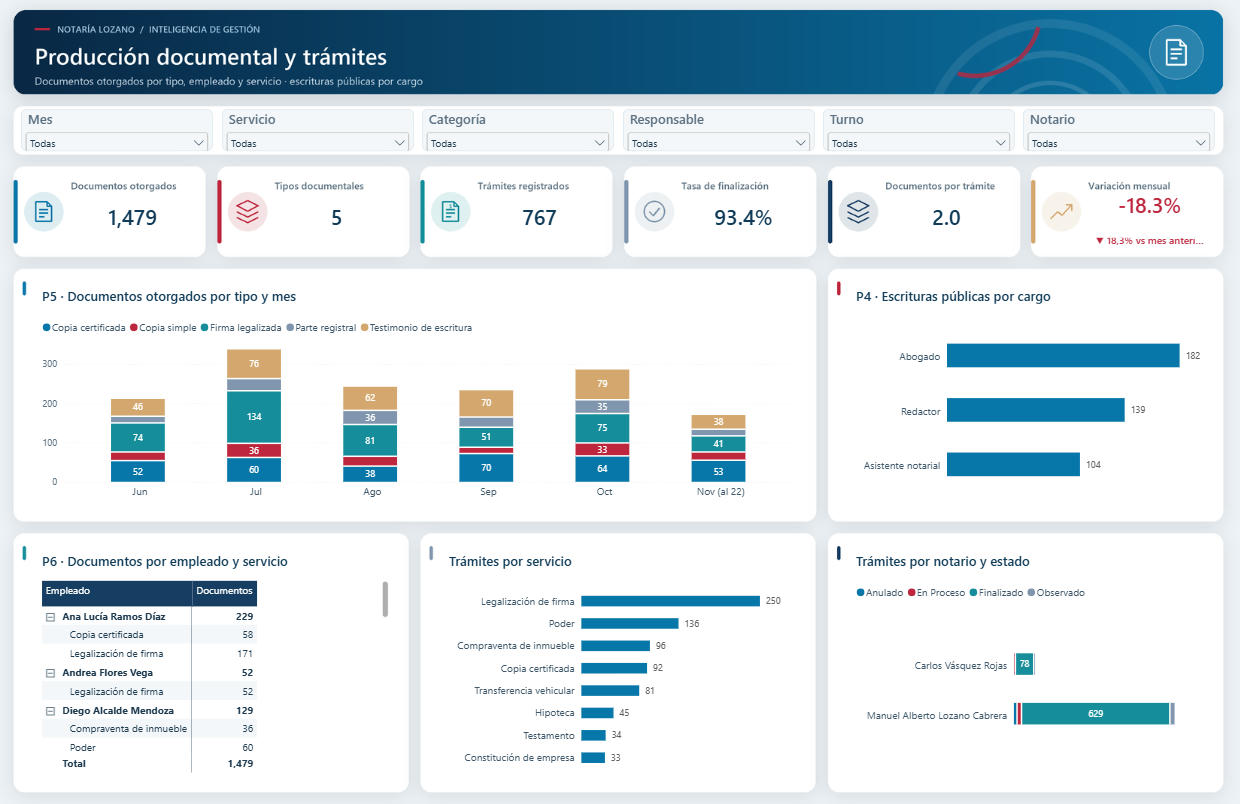

The dashboard page shown, as its layout file describes it:
{"tool":"powerbi","page":{"name":"Producción documental y trámites","canvas":[1920,1280],"ordinal":2},"visuals":[{"type":"textbox","box":[302,67,1400,52],"z":0},{"type":"textbox","box":[304,123,1450,40],"z":1},{"type":"slicer","fields":{"Values":["DIM_TIEMPO.Anio"]},"box":[296,216,250.3,61],"z":3},{"type":"slicer","fields":{"Values":["DIM_TIEMPO.Nombre_Mes"]},"box":[560.3,216,250.3,61],"z":4},{"type":"slicer","fields":{"Values":["DIM_SERVICIO.Nombre_Tramite"]},"box":[824.7,216,250.3,61],"z":5},{"type":"slicer","fields":{"Values":["DIM_TIPO_DOCUMENTO.Nombre_TipoDocumento"]},"box":[1089,216,250.3,61],"z":6},{"type":"slicer","fields":{"Values":["DIM_NOTARIO.Nombre_Completo"]},"box":[1353.3,216,250.3,61],"z":7},{"type":"slicer","fields":{"Values":["DIM_ESTADO_PAGO.Estado"]},"box":[1617.7,216,250.3,61],"z":8},{"type":"card","fields":{"Values":["FACT_DOCUMENTOS_OTORGADOS.Documentos otorgados"]},"box":[280,310,308,122],"z":9},{"type":"card","fields":{"Values":["FACT_TRAMITE_GENERAL.Tramites registrados"]},"box":[604,310,308,122],"z":10},{"type":"card","fields":{"Values":["FACT_DOCUMENTOS_OTORGADOS.Tipos documentales atendidos"]},"box":[928,310,308,122],"z":11},{"type":"card","fields":{"Values":["FACT_TRAMITE_GENERAL.Cantidad de tramites"]},"box":[1252,310,308,122],"z":12},{"type":"card","fields":{"Values":["FACT_DOCUMENTOS_OTORGADOS.Variacion mensual documentos"]},"box":[1576,310,308,122],"z":13},{"type":"textbox","box":[298,1214,1578,36],"z":14},{"type":"lineChart","title":"Evolución mensual de documentos otorgados","fields":{"Category":["DIM_TIEMPO.Nombre_Mes"],"Y":["FACT_DOCUMENTOS_OTORGADOS.Documentos otorgados"]},"box":[306,494,492,214],"z":15},{"type":"clusteredBarChart","title":"Documentos por tipo documental","fields":{"Category":["DIM_TIPO_DOCUMENTO.Nombre_TipoDocumento"],"Y":["FACT_DOCUMENTOS_OTORGADOS.Documentos otorgados"]},"box":[846,494,492,214],"z":16},{"type":"clusteredColumnChart","title":"Trámites únicos por mes","fields":{"Category":["DIM_TIEMPO.Nombre_Mes"],"Y":["FACT_TRAMITE_GENERAL.Tramites registrados"]},"box":[1386,494,492,214],"z":17},{"type":"clusteredBarChart","title":"Trámites únicos por servicio","fields":{"Category":["DIM_SERVICIO.Nombre_Tramite"],"Y":["FACT_TRAMITE_GENERAL.Tramites registrados"]},"box":[306,744,492,214],"z":18},{"type":"clusteredBarChart","title":"Trámites únicos por notario","fields":{"Category":["DIM_NOTARIO.Nombre_Completo"],"Y":["FACT_TRAMITE_GENERAL.Tramites registrados"]},"box":[846,744,492,214],"z":19},{"type":"donutChart","title":"Trámites por estado de pago","fields":{"Category":["DIM_ESTADO_PAGO.Estado"],"Y":["FACT_TRAMITE_GENERAL.Tramites registrados"]},"box":[1386,744,492,214],"z":20},{"type":"tableEx","title":"Detalle documental agrupado por fecha, tipo, servicio y responsable","fields":{"Values":["DIM_TIEMPO.Fecha_Exacta","DIM_TIPO_DOCUMENTO.Nombre_TipoDocumento","DIM_SERVICIO.Nombre_Tramite","DIM_PERSONAL.Nombre_Completo","FACT_DOCUMENTOS_OTORGADOS.Documentos otorgados"]},"box":[295.5,978.2,1572.3,254.4],"z":21},{"type":"actionButton","box":[24,685,196,44],"z":23},{"type":"actionButton","box":[24,260,196,76],"z":40},{"type":"actionButton","box":[24,352,196,76],"z":41},{"type":"actionButton","box":[24,444,196,76],"z":42}]}

Visuals, with their boxes in screenshot pixels (x1, y1, x2, y2), scaled from the page's 1920x1280 canvas onto the 1240x804 screenshot:
textbox: box(195, 42, 1099, 75)
textbox: box(196, 77, 1133, 102)
slicer - DIM_TIEMPO.Anio: box(191, 136, 353, 174)
slicer - DIM_TIEMPO.Nombre_Mes: box(362, 136, 524, 174)
slicer - DIM_SERVICIO.Nombre_Tramite: box(533, 136, 694, 174)
slicer - DIM_TIPO_DOCUMENTO.Nombre_TipoDocumento: box(703, 136, 865, 174)
slicer - DIM_NOTARIO.Nombre_Completo: box(874, 136, 1036, 174)
slicer - DIM_ESTADO_PAGO.Estado: box(1045, 136, 1206, 174)
card - FACT_DOCUMENTOS_OTORGADOS.Documentos otorgados: box(181, 195, 380, 271)
card - FACT_TRAMITE_GENERAL.Tramites registrados: box(390, 195, 589, 271)
card - FACT_DOCUMENTOS_OTORGADOS.Tipos documentales atendidos: box(599, 195, 798, 271)
card - FACT_TRAMITE_GENERAL.Cantidad de tramites: box(809, 195, 1008, 271)
card - FACT_DOCUMENTOS_OTORGADOS.Variacion mensual documentos: box(1018, 195, 1217, 271)
textbox: box(192, 763, 1212, 785)
"Evolución mensual de documentos otorgados" lineChart: box(198, 310, 515, 445)
"Documentos por tipo documental" clusteredBarChart: box(546, 310, 864, 445)
"Trámites únicos por mes" clusteredColumnChart: box(895, 310, 1213, 445)
"Trámites únicos por servicio" clusteredBarChart: box(198, 467, 515, 602)
"Trámites únicos por notario" clusteredBarChart: box(546, 467, 864, 602)
"Trámites por estado de pago" donutChart: box(895, 467, 1213, 602)
"Detalle documental agrupado por fecha, tipo, servicio y responsable" tableEx: box(191, 614, 1206, 774)
actionButton: box(16, 430, 142, 458)
actionButton: box(16, 163, 142, 211)
actionButton: box(16, 221, 142, 269)
actionButton: box(16, 279, 142, 327)
